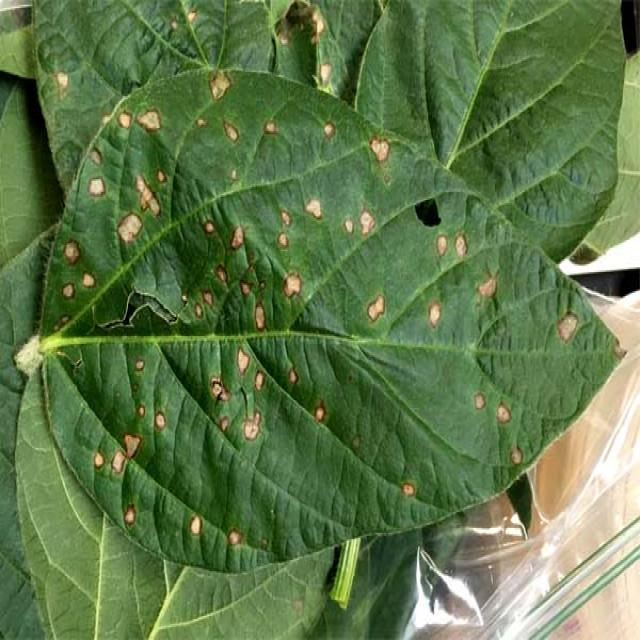Septoria: (63, 91, 582, 554)
